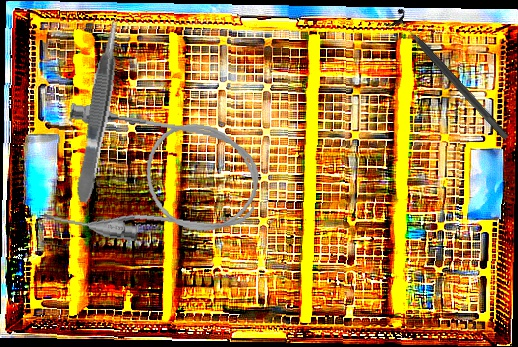Cannula: (42, 101, 265, 257)
Fixation Ring: (383, 7, 516, 147)
Tissue Forceps: (69, 17, 129, 204)
